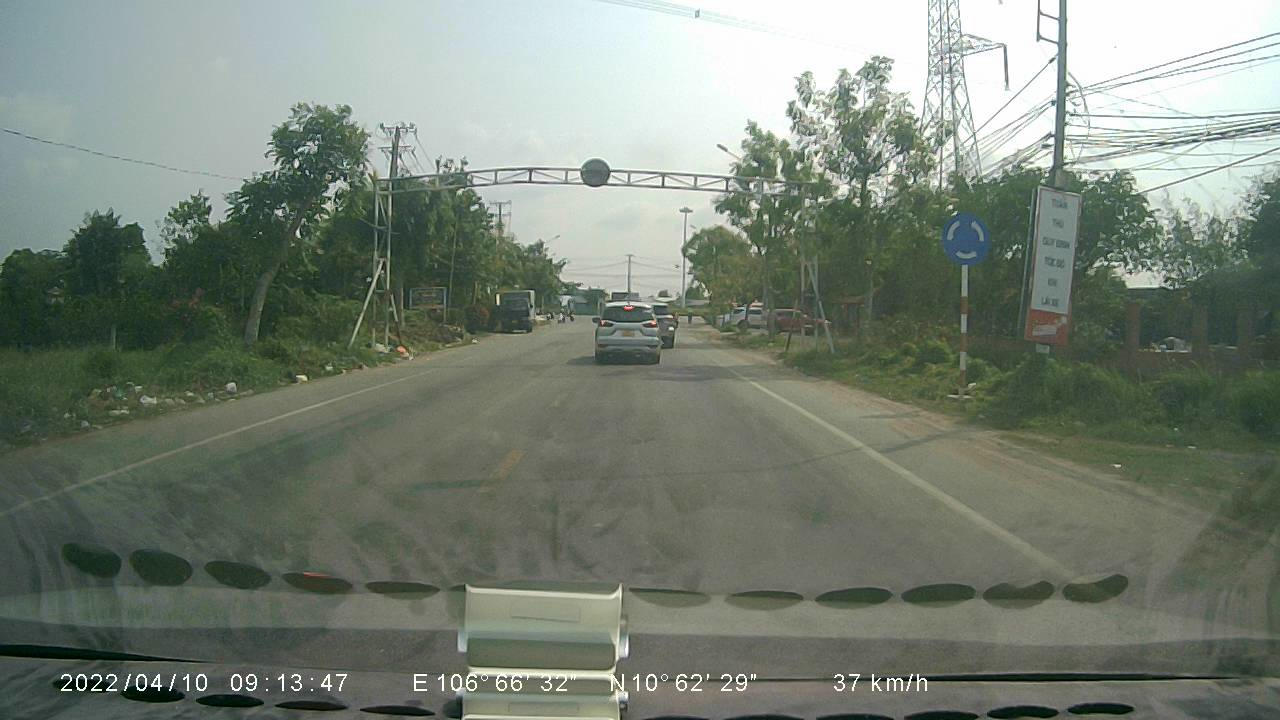Bien khac: (939, 209, 992, 267)
